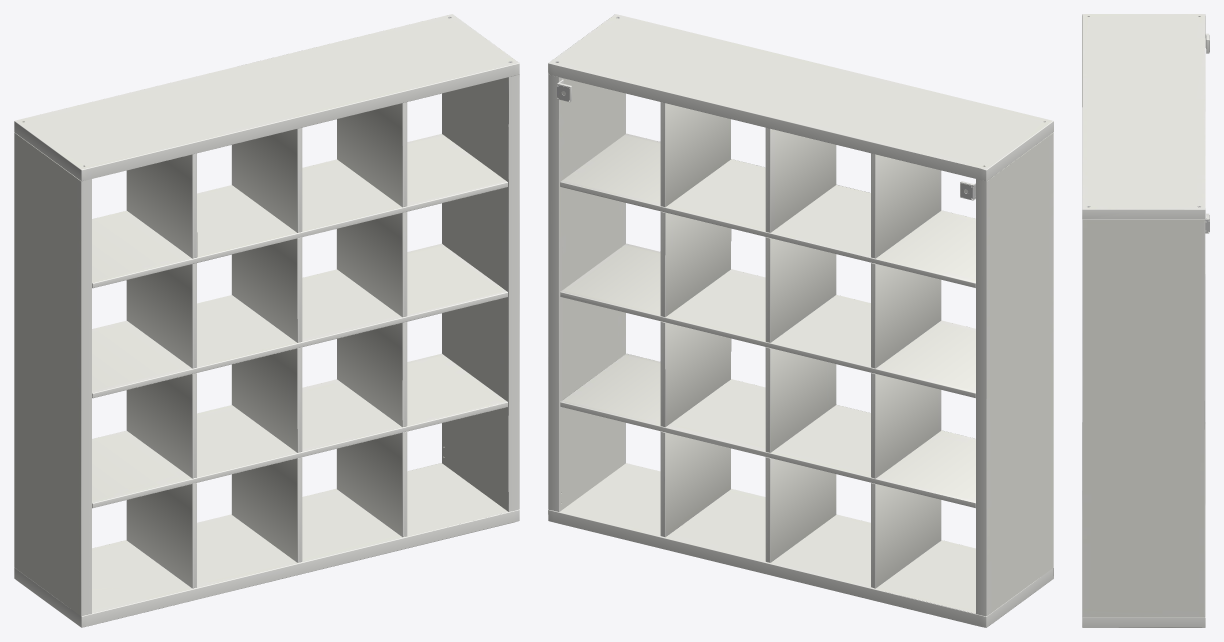
Rendered from KALLAX_30275861.glb.
The picture shows the model from 3 angles, left to right: view 1: azimuth 30°, elevation 25°; view 2: azimuth 150°, elevation 25°; view 3: azimuth 270°, elevation 25°; orthographic projection. The views are drawn at different scales.
Visible parts, largest first — view 1: 30275861-KALLAX001; view 2: 30275861-KALLAX001; view 3: 30275861-KALLAX001.
Boxes of the visible parts, x1,y1,x2,y2 form: 30275861-KALLAX001: (14, 14, 519, 627); 30275861-KALLAX001: (548, 14, 1053, 627); 30275861-KALLAX001: (1082, 14, 1209, 627).
Bounding box in the file's own units: 1.47 × 1.47 × 0.4052.
Materials: 1 (1 with a texture image).
